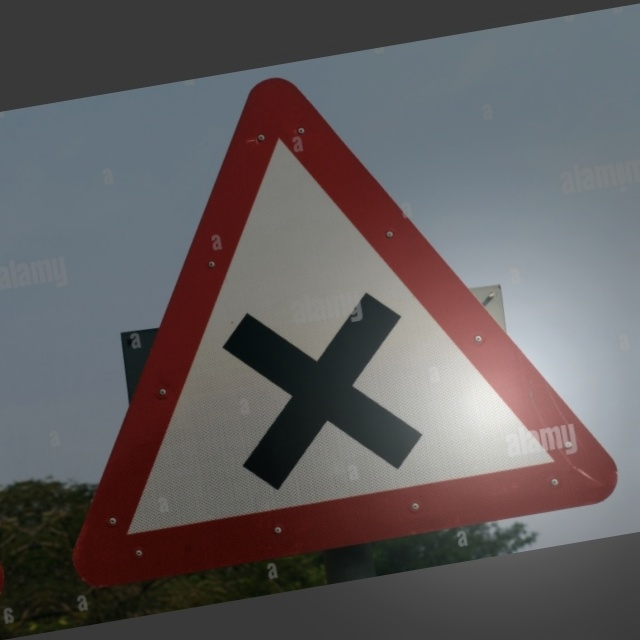Cross_Road: (43, 37, 622, 587)
